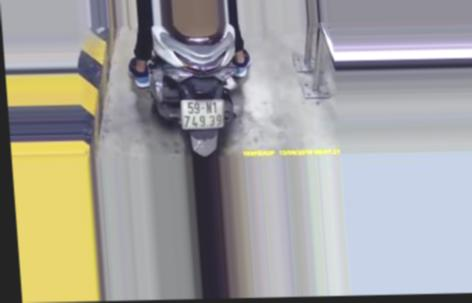License_Plate: (177, 97, 229, 131)
